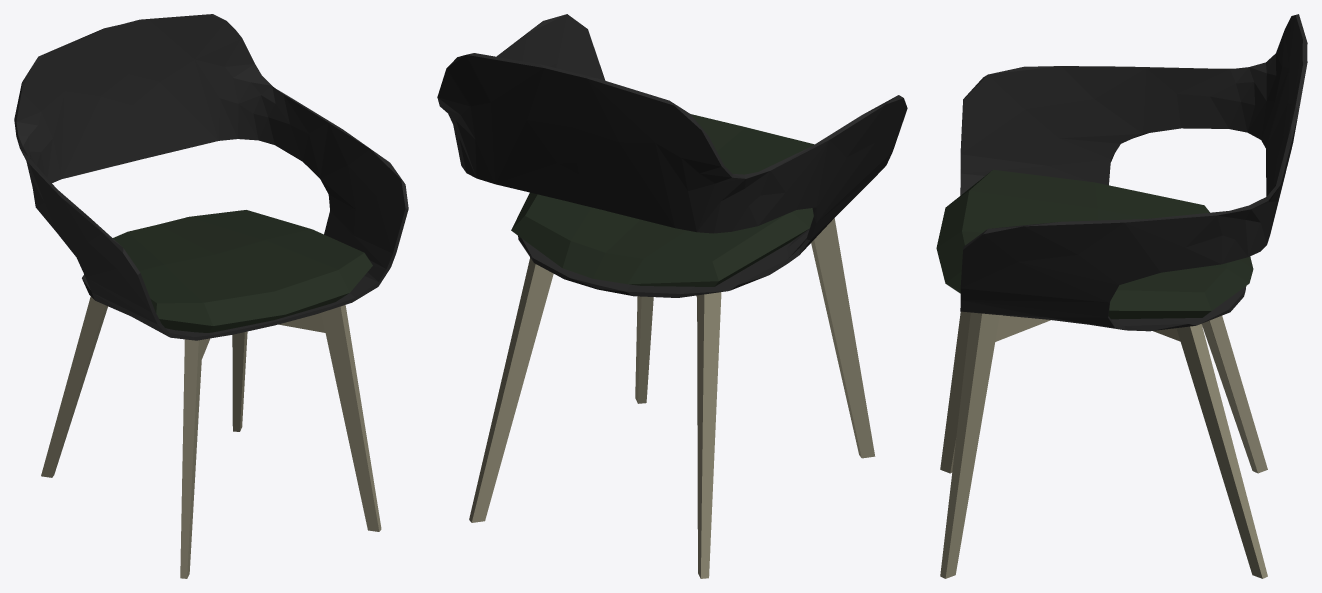
File: Chair.fbx
The picture shows the model from 3 angles, left to right: view 1: azimuth 30°, elevation 25°; view 2: azimuth 150°, elevation 25°; view 3: azimuth 270°, elevation 25°; orthographic projection. The views are drawn at different scales.
Parts seen in each view (by area): view 1: Cube.030, Plane.017, Cube.029; view 2: Cube.030, Plane.017, Cube.029; view 3: Cube.030, Cube.029, Plane.017.
Boxes of the visible parts, x1=… form: Cube.030: x1=14, y1=14, x2=408, y2=340; Plane.017: x1=113, y1=210, x2=372, y2=332; Cube.029: x1=41, y1=296, x2=381, y2=578; Cube.030: x1=437, y1=14, x2=907, y2=297; Plane.017: x1=511, y1=114, x2=814, y2=286; Cube.029: x1=469, y1=218, x2=875, y2=578; Cube.030: x1=960, y1=14, x2=1307, y2=331; Cube.029: x1=940, y1=311, x2=1267, y2=578; Plane.017: x1=936, y1=169, x2=1253, y2=319.
Bounding box in the file's own units: 62.07 × 85.38 × 61.
